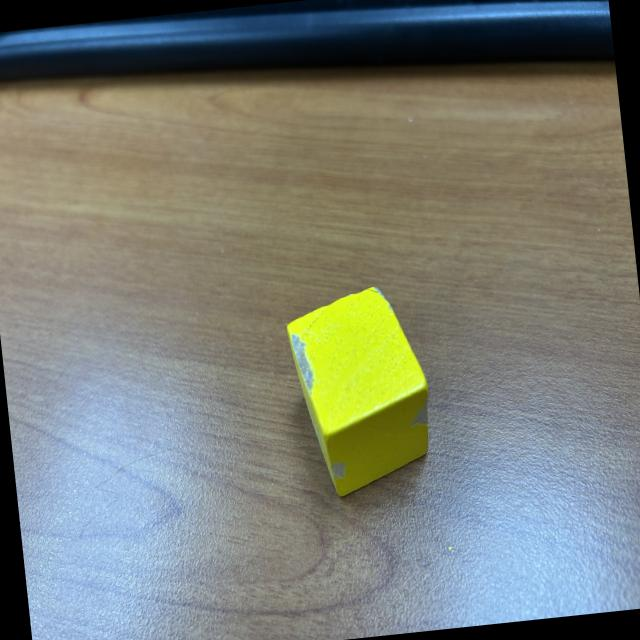broken: (282, 280, 439, 501)
